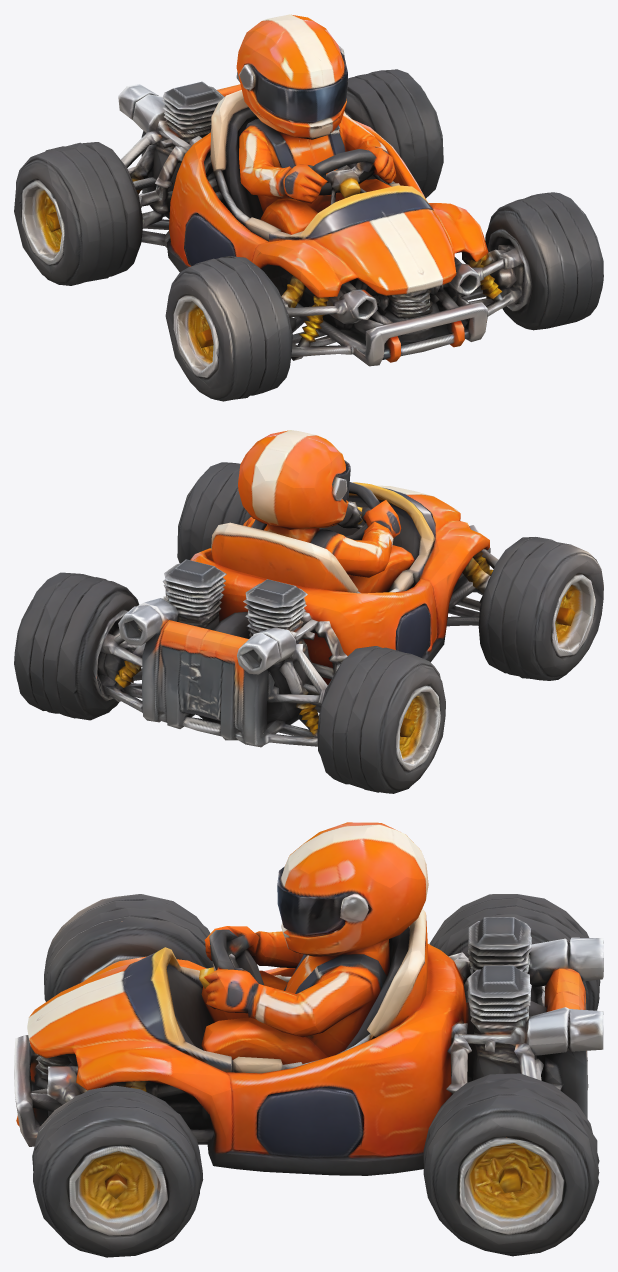
The model's file is base_basic_shaded.glb.
The picture shows the model from 3 angles, top to bottom: view 1: azimuth 30°, elevation 25°; view 2: azimuth 150°, elevation 25°; view 3: azimuth 270°, elevation 25°; orthographic projection. The views are drawn at different scales.
Parts seen in each view (by area): view 1: model; view 2: model; view 3: model.
Boxes of the visible parts, bbox=[...] form: model: bbox=[14, 14, 603, 401]; model: bbox=[14, 430, 603, 793]; model: bbox=[14, 822, 603, 1257].
Size of the model in its own units: 1.73 by 1.16 by 1.9.
Materials: 1 (1 with a texture image).
